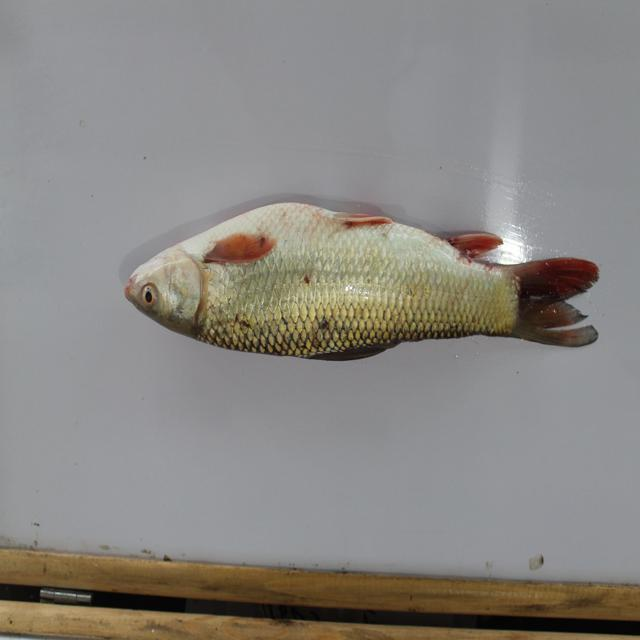Mori: (123, 192, 618, 374)
